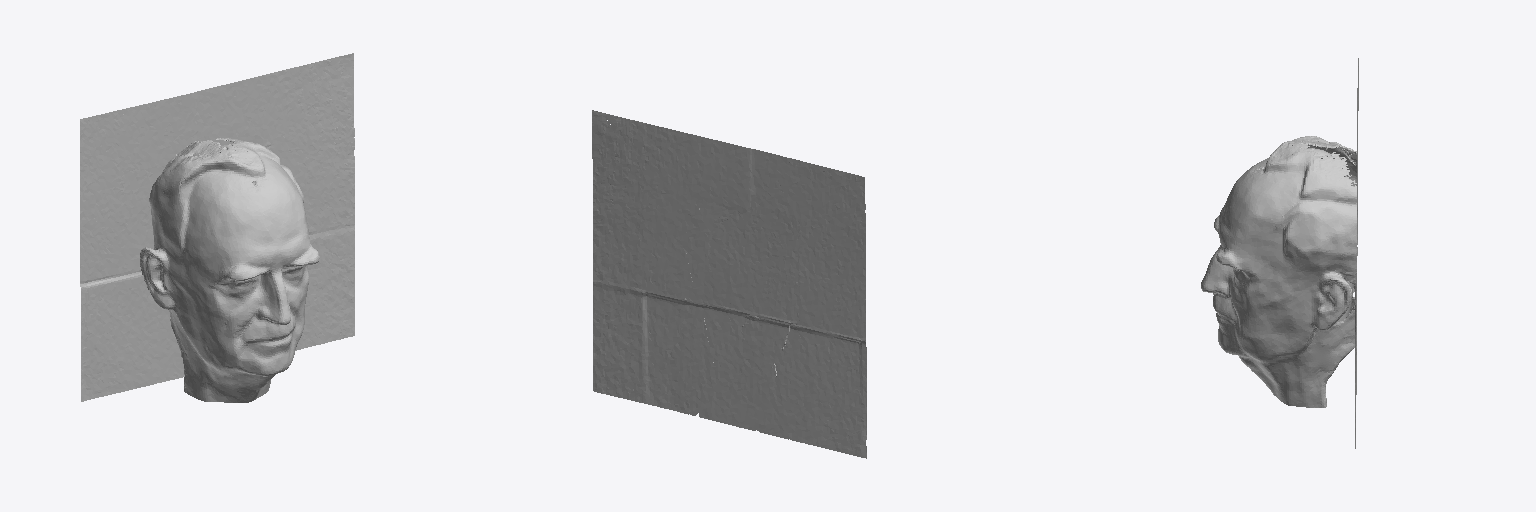
The model's file is Otto_Hahn.obj.
The picture shows the model from 3 angles: view 1: azimuth 30°, elevation 25°; view 2: azimuth 150°, elevation 25°; view 3: azimuth 270°, elevation 25°; orthographic projection.
Visible parts, largest first — view 1: MeshBody24; view 2: MeshBody24; view 3: MeshBody24.
Part boxes in pixels (x1,y1,x2,y2): MeshBody24: (80,53,354,402); MeshBody24: (592,110,866,458); MeshBody24: (1201,58,1358,448).
Size of the model in its own units: 3930 by 3870 by 1967.